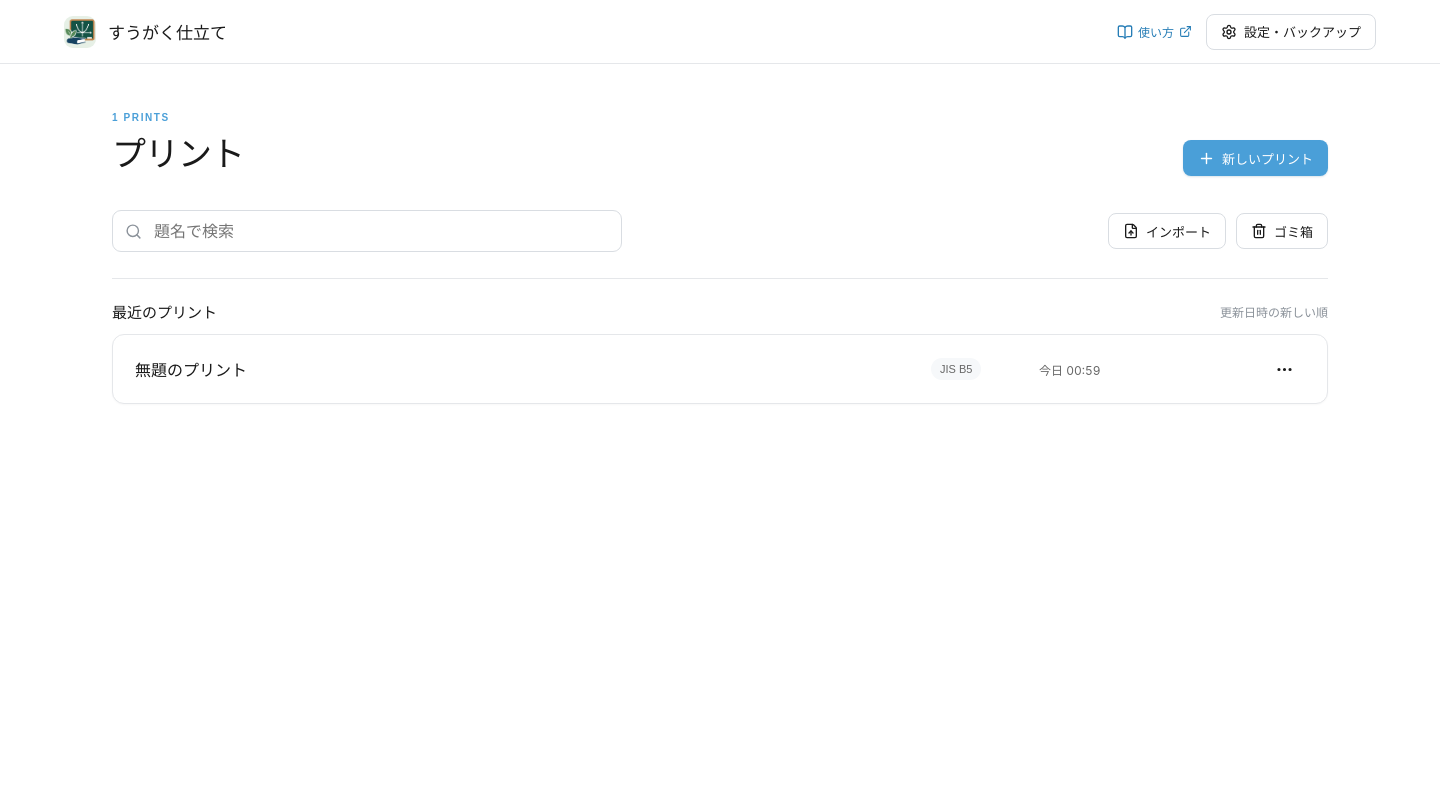
WorksheetListScreen › 全体バックアップ中は操作を無効化して多重実行を防ぐ
The image size is (1440, 810).
Click the button "設定・バックアップ": (1291, 32) left=1206, top=14, right=1376, bottom=50
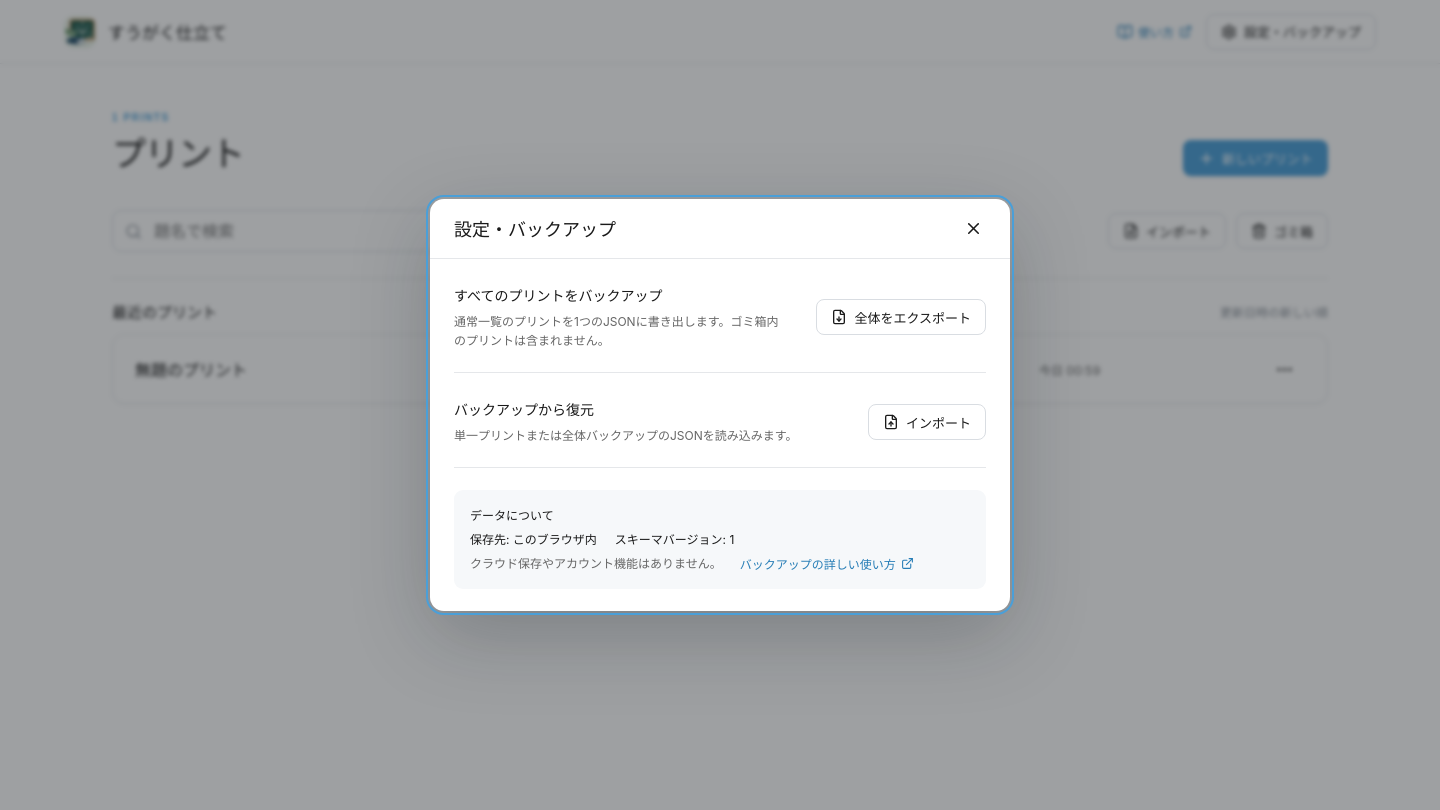
Click the button "全体をエクスポート": (901, 317) left=816, top=299, right=986, bottom=335
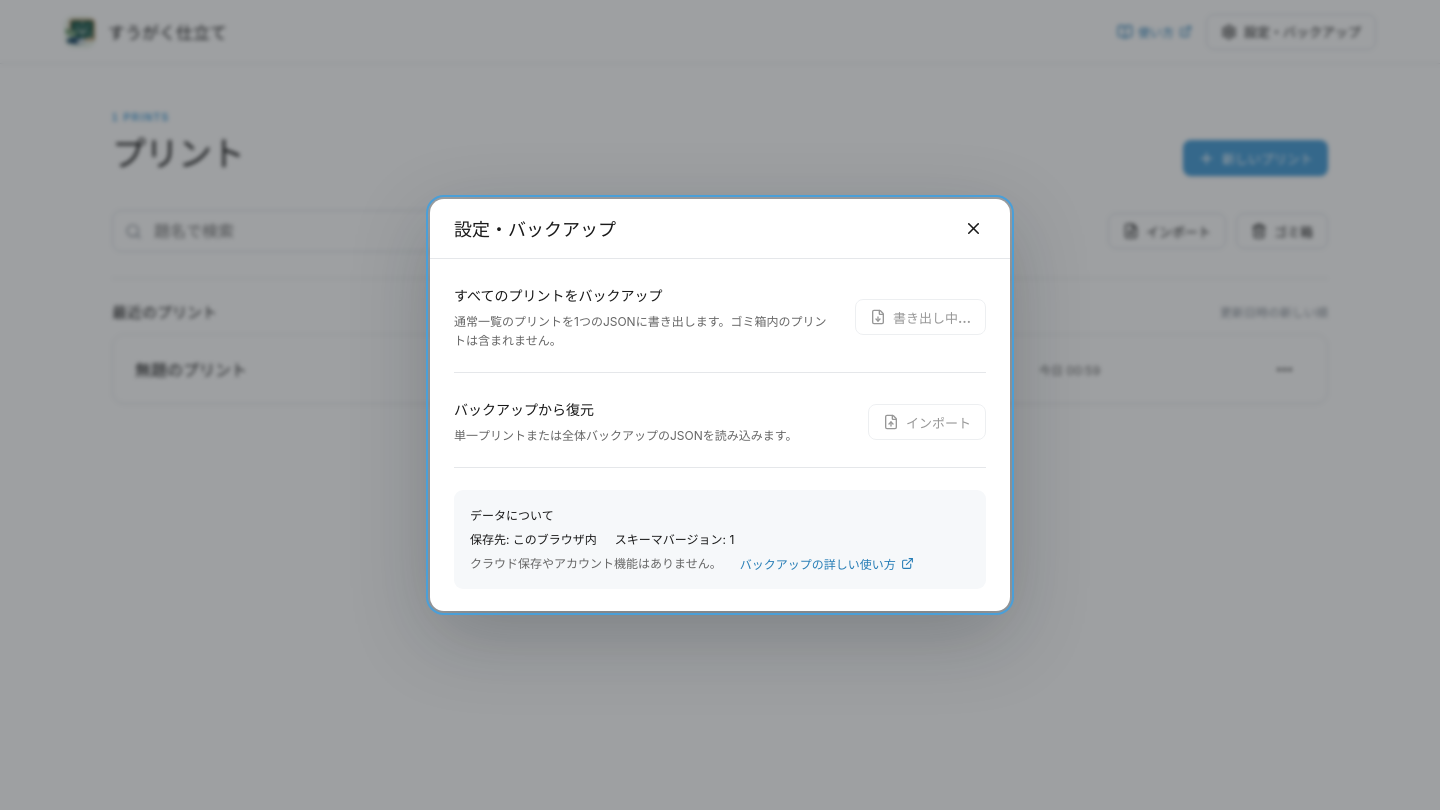
Expected: the button "書き出し中…" is disabled
Click the button "書き出し中…": (920, 317) left=855, top=299, right=986, bottom=335
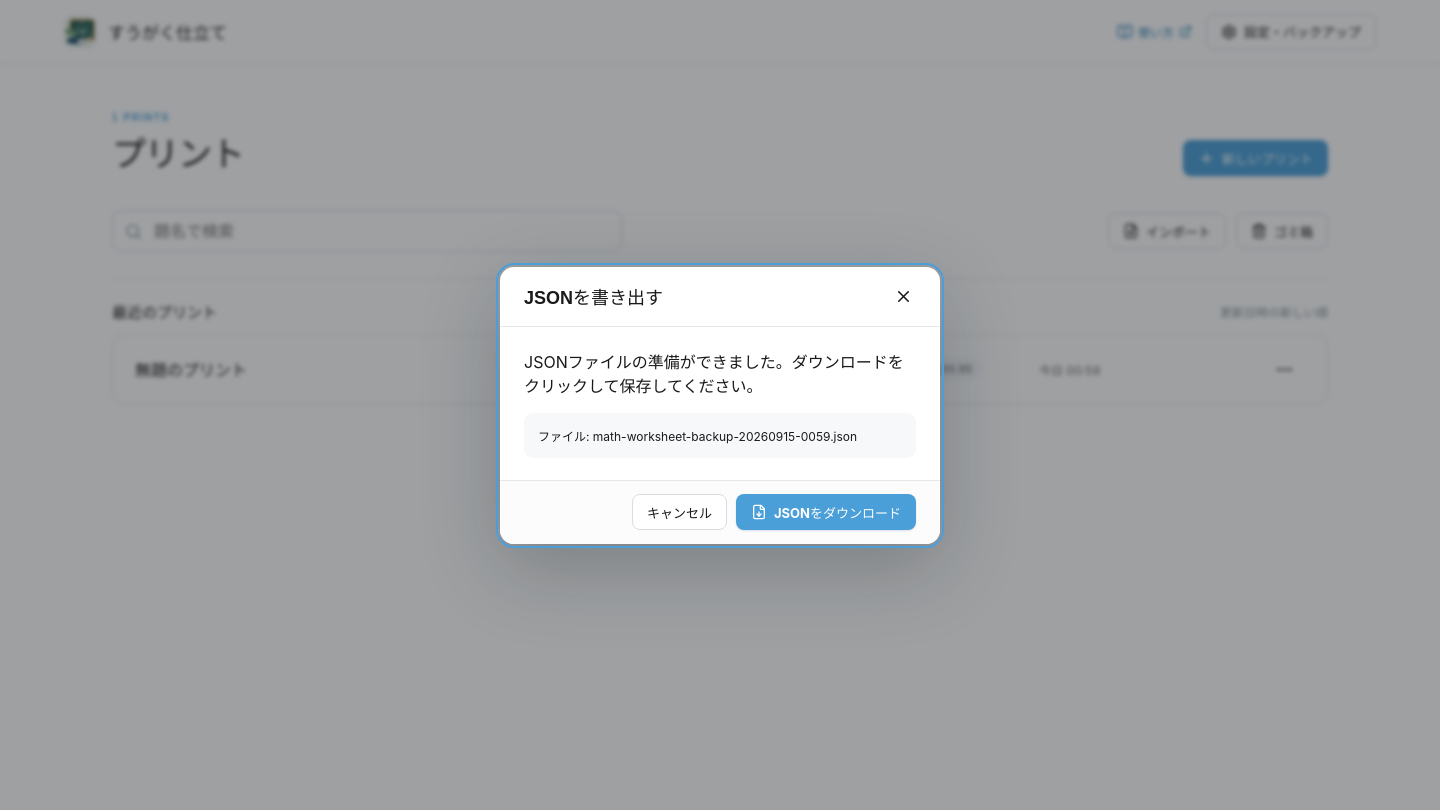
Expected: the link "JSONをダウンロード" is shown, left=736, top=494, right=916, bottom=530
